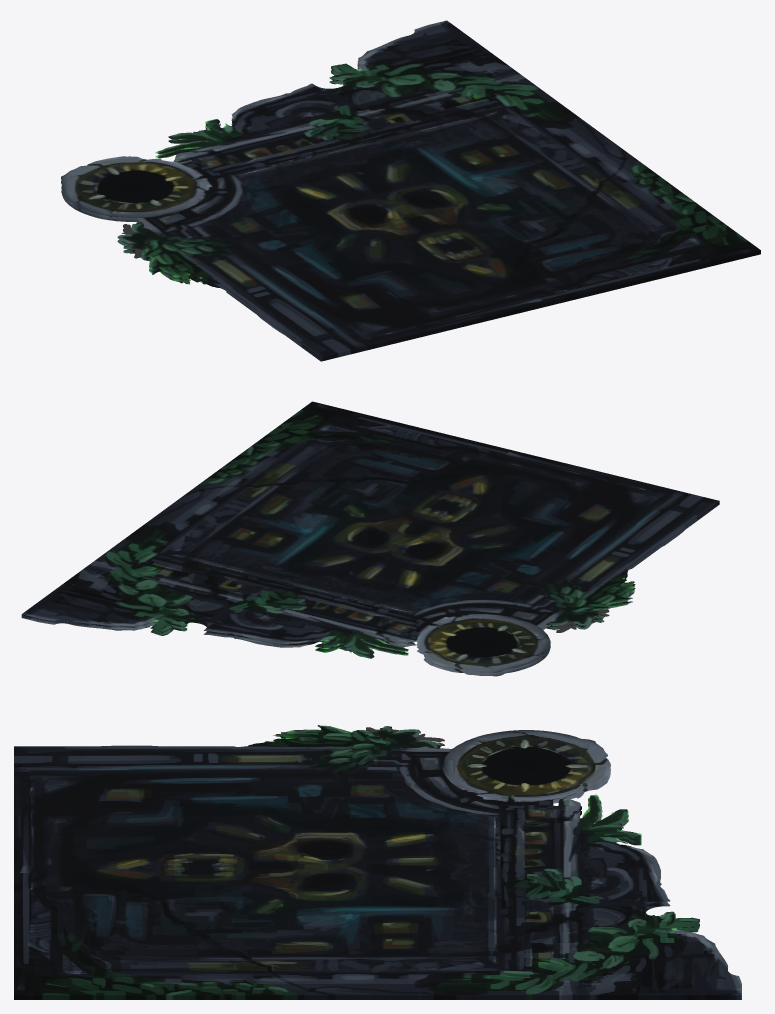
File: Spirit_P.fbx
The picture shows the model from 3 angles, top to bottom: view 1: azimuth 30°, elevation 25°; view 2: azimuth 150°, elevation 25°; view 3: azimuth 270°, elevation 25°; orthographic projection. The views are drawn at different scales.
Visible parts, largest first — view 1: SpiritP; view 2: SpiritP; view 3: SpiritP.
Boxes of the visible parts, bbox=[...] form: SpiritP: bbox=[61, 20, 760, 361]; SpiritP: bbox=[21, 401, 719, 676]; SpiritP: bbox=[14, 725, 741, 999].
Bounding box in the file's own units: 6.46 × 0.0517 × 7.44.
